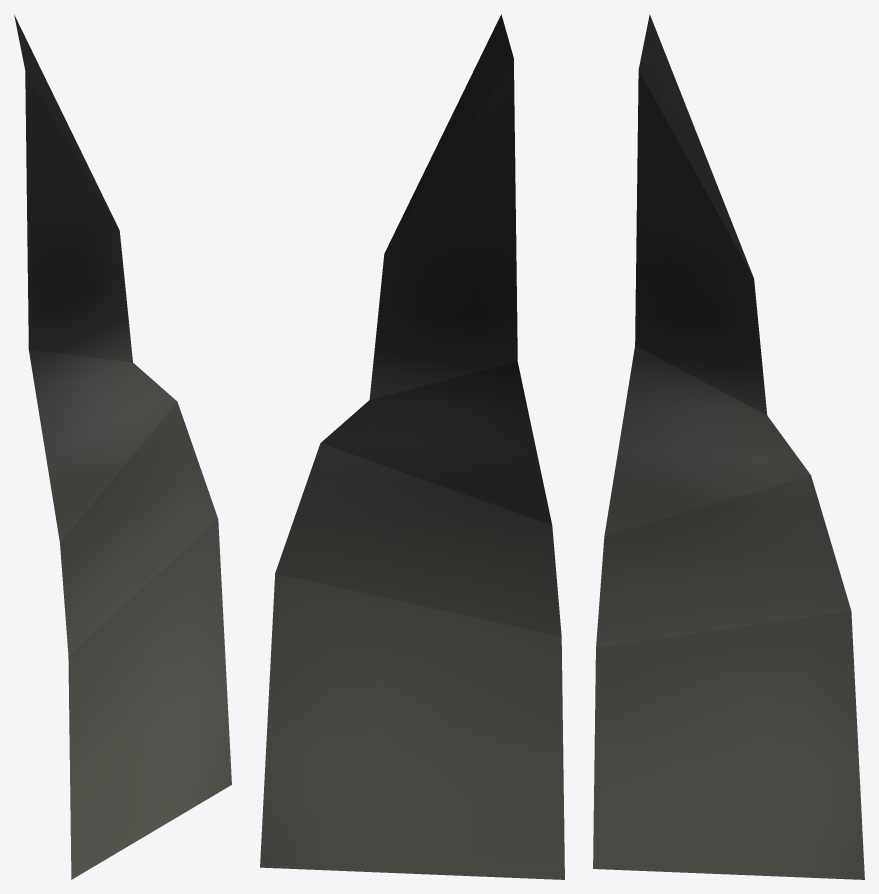
3 views of the same model, side by side, from view 1: azimuth 30°, elevation 25°; view 2: azimuth 150°, elevation 25°; view 3: azimuth 330°, elevation 25° (orthographic). The views are drawn at different scales.
Size of the model in its own units: 0.0678 by 0.245 by 0.0309.
1 material, 1 textured.
